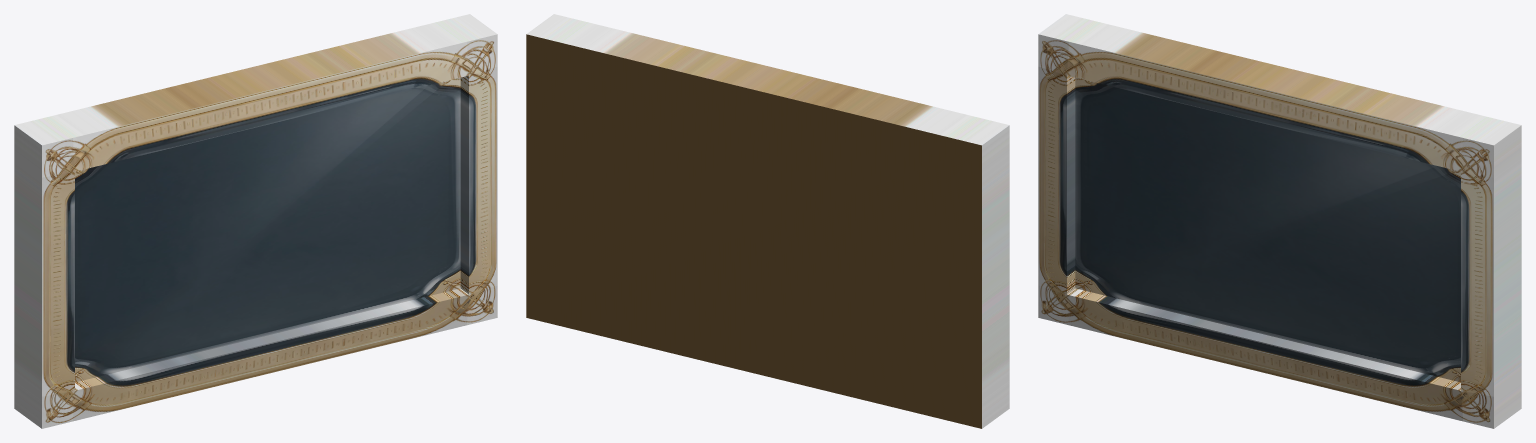
File: panel_show.glb
3 renders of one model, left to right at view 1: azimuth 30°, elevation 25°; view 2: azimuth 150°, elevation 25°; view 3: azimuth 330°, elevation 25°, orthographic.
Visible parts, largest first — view 1: panel_show; view 2: panel_show; view 3: panel_show.
Boxes of the visible parts, x1,y1,x2,y2 form: panel_show: [14, 14, 497, 428]; panel_show: [526, 14, 1009, 428]; panel_show: [1038, 14, 1521, 428].
Bounding box in the file's own units: 0.37 × 0.22 × 0.042.
Materials: 1 (1 with a texture image).
